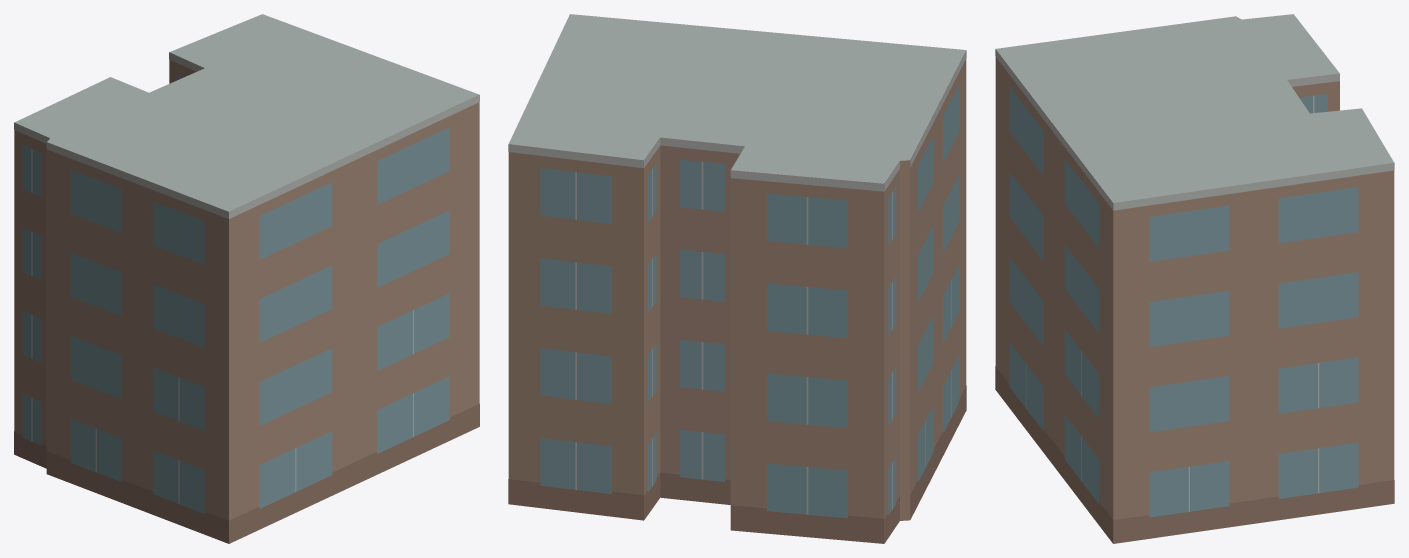
Rendered from survey-upis-32749592.glb.
3 renders of one model, left to right at view 1: azimuth 30°, elevation 25°; view 2: azimuth 150°, elevation 25°; view 3: azimuth 270°, elevation 25°, orthographic. The views are drawn at different scales.
Parts seen in each view (by area): view 1: survey-upis-32749592.tmp; view 2: survey-upis-32749592.tmp; view 3: survey-upis-32749592.tmp.
Part boxes in pixels (bbox=[...]): survey-upis-32749592.tmp: bbox=[14, 14, 479, 543]; survey-upis-32749592.tmp: bbox=[508, 14, 966, 543]; survey-upis-32749592.tmp: bbox=[995, 14, 1394, 543].
Size of the model in its own units: 13.22 by 11.1 by 11.79.
